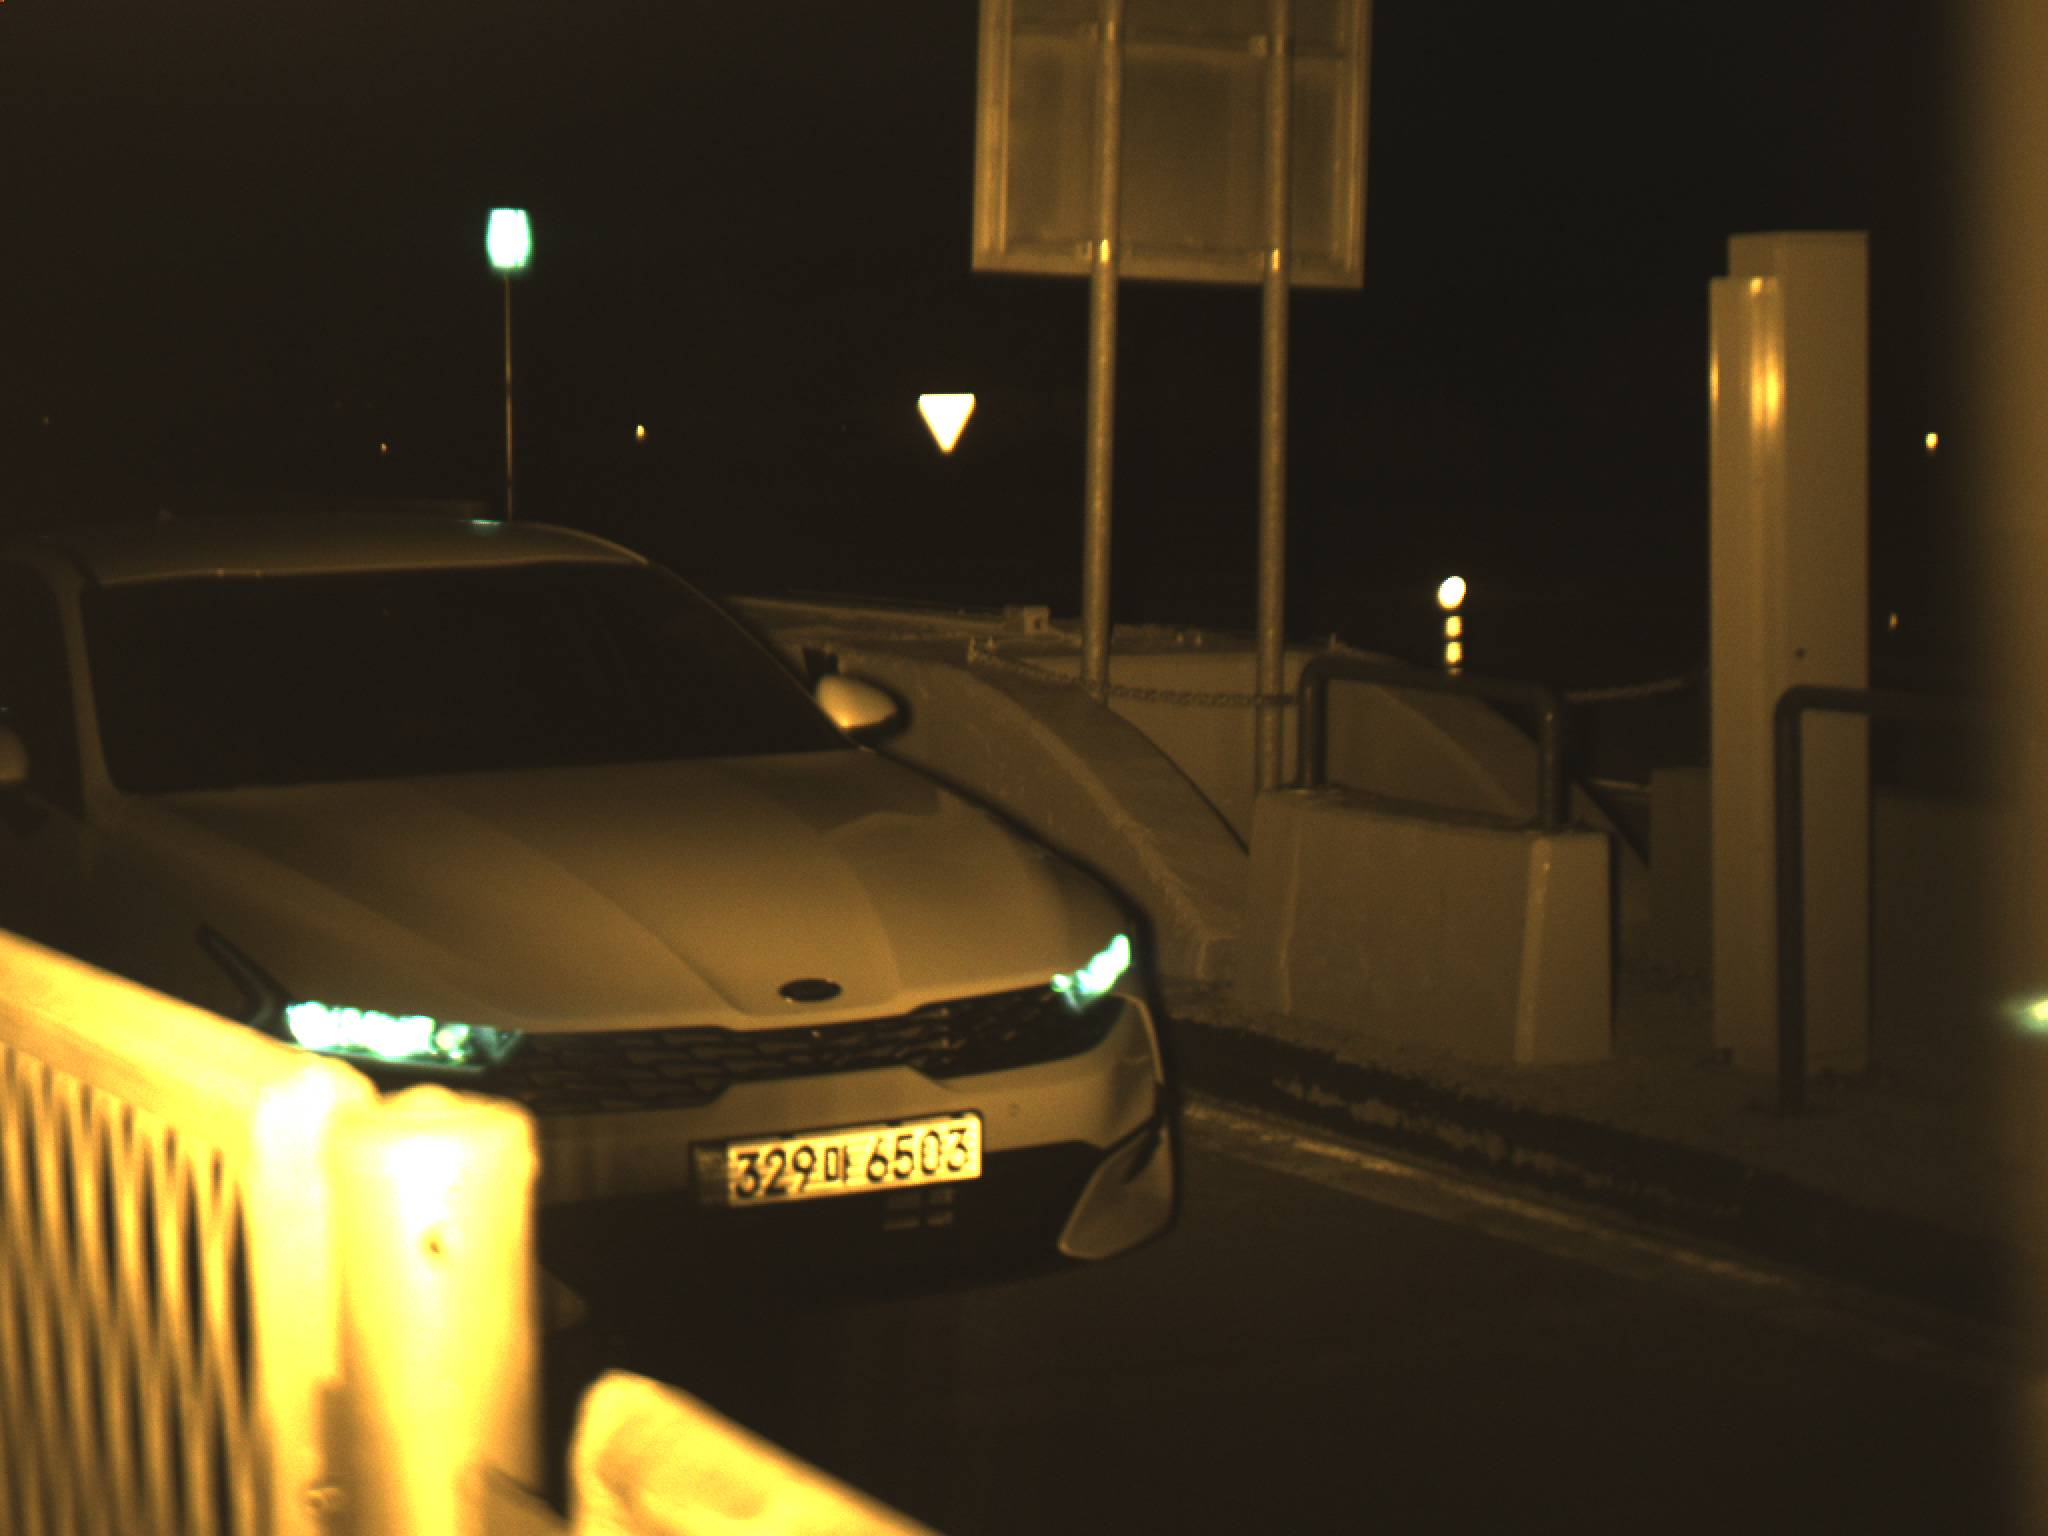car: (1, 500, 1186, 1351)
plate: (686, 1107, 989, 1224)
